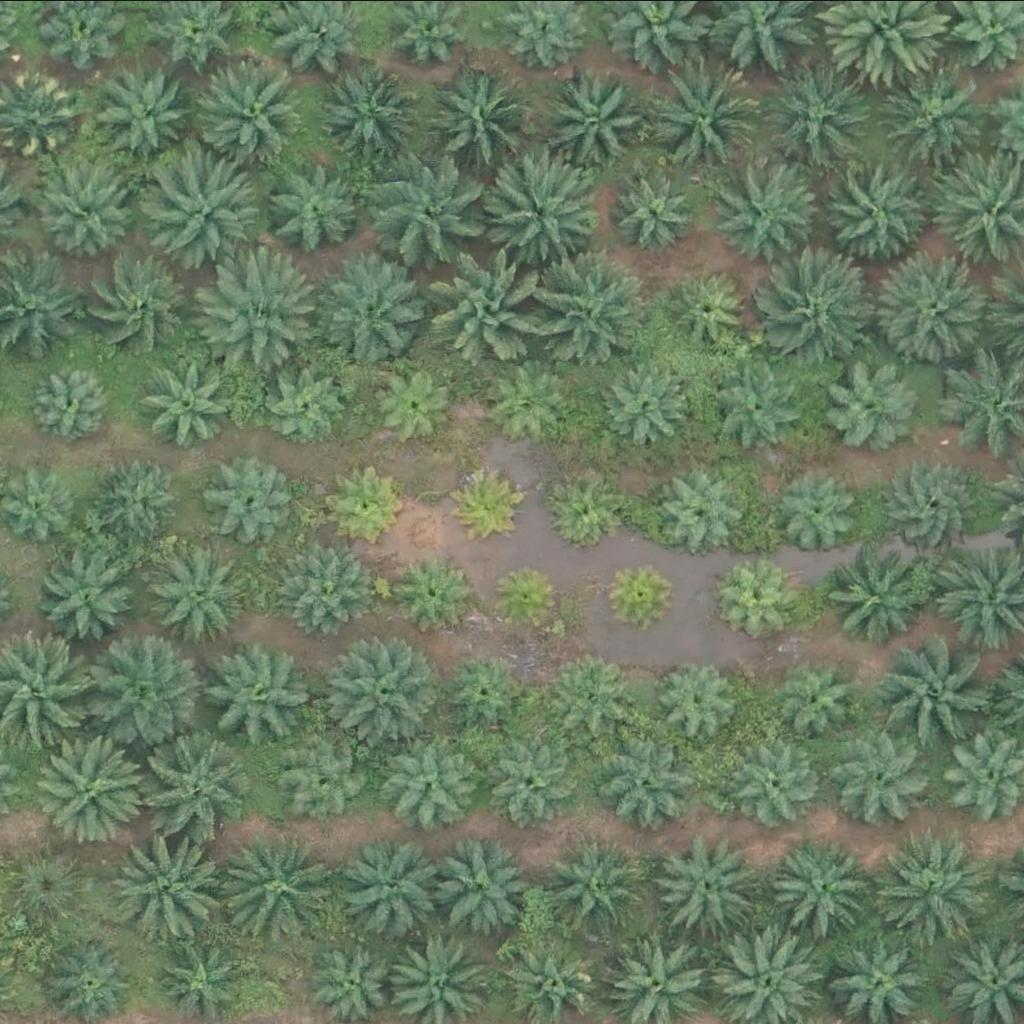Kelapa_Sawit: (430, 65, 544, 178), (115, 831, 229, 944), (649, 64, 762, 177), (761, 60, 874, 173), (816, 153, 929, 266), (877, 256, 990, 369), (774, 833, 887, 946), (883, 832, 996, 945), (376, 148, 489, 261), (534, 249, 647, 362), (92, 636, 205, 749), (202, 635, 315, 748), (325, 634, 438, 747), (138, 725, 251, 838), (34, 729, 147, 842), (229, 835, 342, 948), (153, 150, 267, 262), (438, 244, 552, 356), (717, 161, 830, 273), (768, 259, 881, 371), (879, 642, 992, 754), (199, 53, 312, 165), (481, 154, 594, 266), (312, 257, 425, 369), (197, 257, 310, 369), (84, 253, 197, 365), (882, 69, 983, 169), (828, 548, 929, 648), (833, 724, 934, 824), (653, 835, 754, 935), (546, 66, 647, 166), (97, 60, 198, 160), (258, 161, 359, 261), (142, 350, 243, 450), (146, 546, 247, 646), (345, 839, 446, 939), (428, 834, 529, 934), (545, 835, 646, 935), (597, 728, 698, 828), (818, 354, 918, 454), (886, 456, 986, 556), (324, 65, 424, 165), (40, 166, 140, 266), (41, 547, 141, 647), (28, 360, 117, 448), (667, 266, 755, 354), (660, 471, 748, 559), (732, 745, 820, 833), (440, 649, 528, 737), (558, 649, 646, 737), (612, 166, 700, 254), (8, 846, 96, 934), (368, 363, 456, 451), (491, 358, 579, 446), (396, 739, 484, 827), (488, 738, 576, 826), (717, 367, 806, 454), (776, 470, 864, 557), (656, 654, 744, 741), (780, 657, 868, 744), (96, 456, 184, 543), (266, 361, 354, 448), (600, 360, 688, 447), (276, 546, 364, 633), (207, 459, 295, 546), (285, 734, 373, 821), (546, 477, 622, 552), (726, 560, 802, 635), (599, 555, 675, 630), (450, 462, 526, 537), (392, 552, 467, 627), (489, 560, 564, 635), (328, 462, 403, 537)
